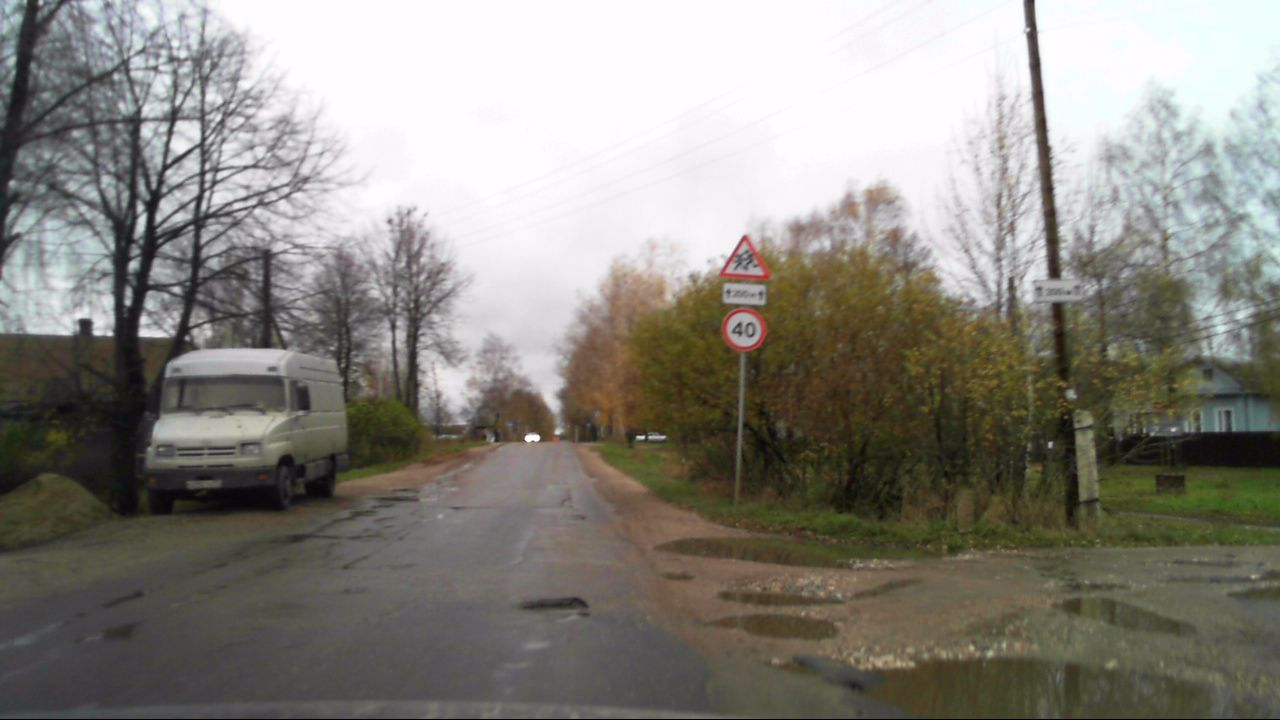speed_warning_40: (721, 307, 768, 354)
